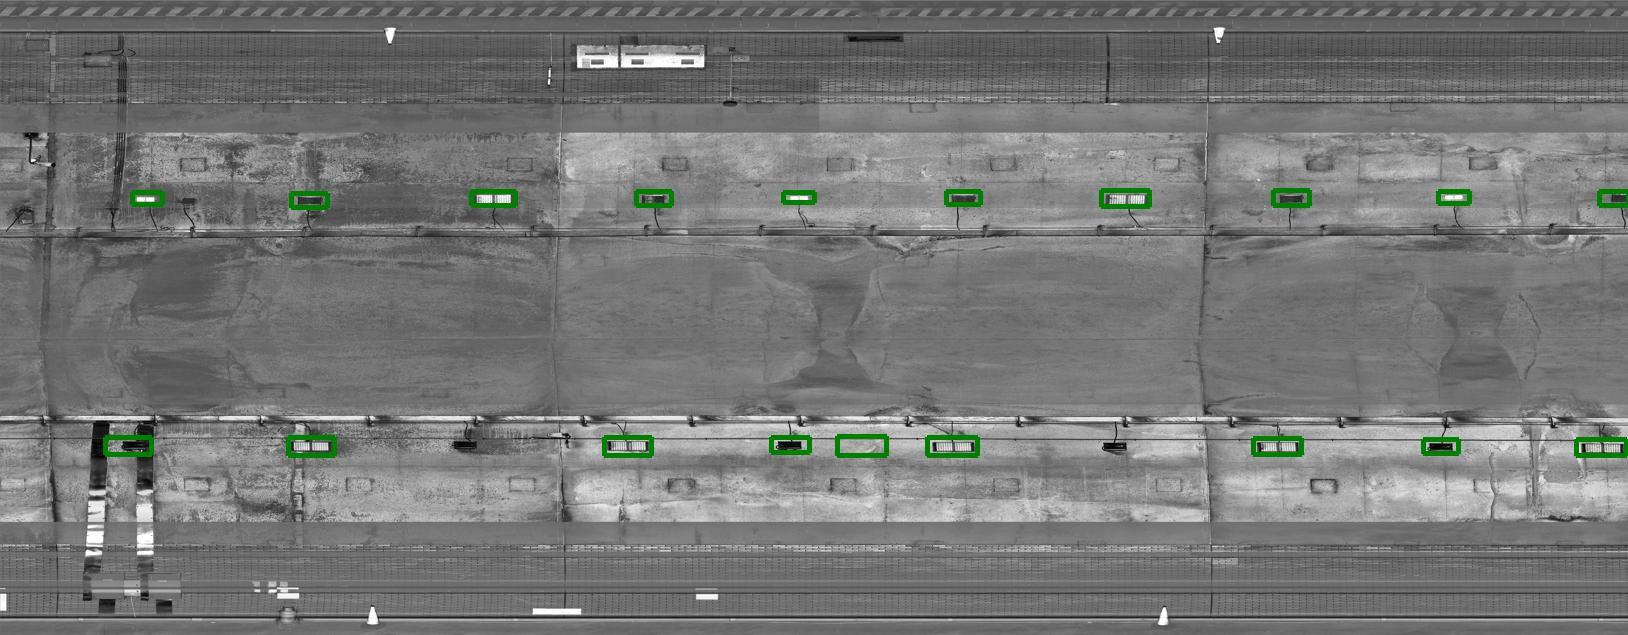light: (284, 437, 332, 455), (927, 437, 975, 455), (1102, 191, 1150, 209), (468, 191, 516, 209), (602, 438, 650, 455), (1253, 438, 1301, 455), (1578, 439, 1626, 457), (1594, 190, 1628, 208), (447, 436, 481, 453), (1274, 190, 1307, 208), (119, 438, 152, 455), (771, 437, 804, 454), (1098, 438, 1131, 455), (1424, 438, 1457, 455), (292, 192, 325, 209), (945, 191, 978, 208), (636, 191, 669, 208), (1437, 191, 1469, 205), (134, 193, 158, 205), (787, 193, 811, 205)
